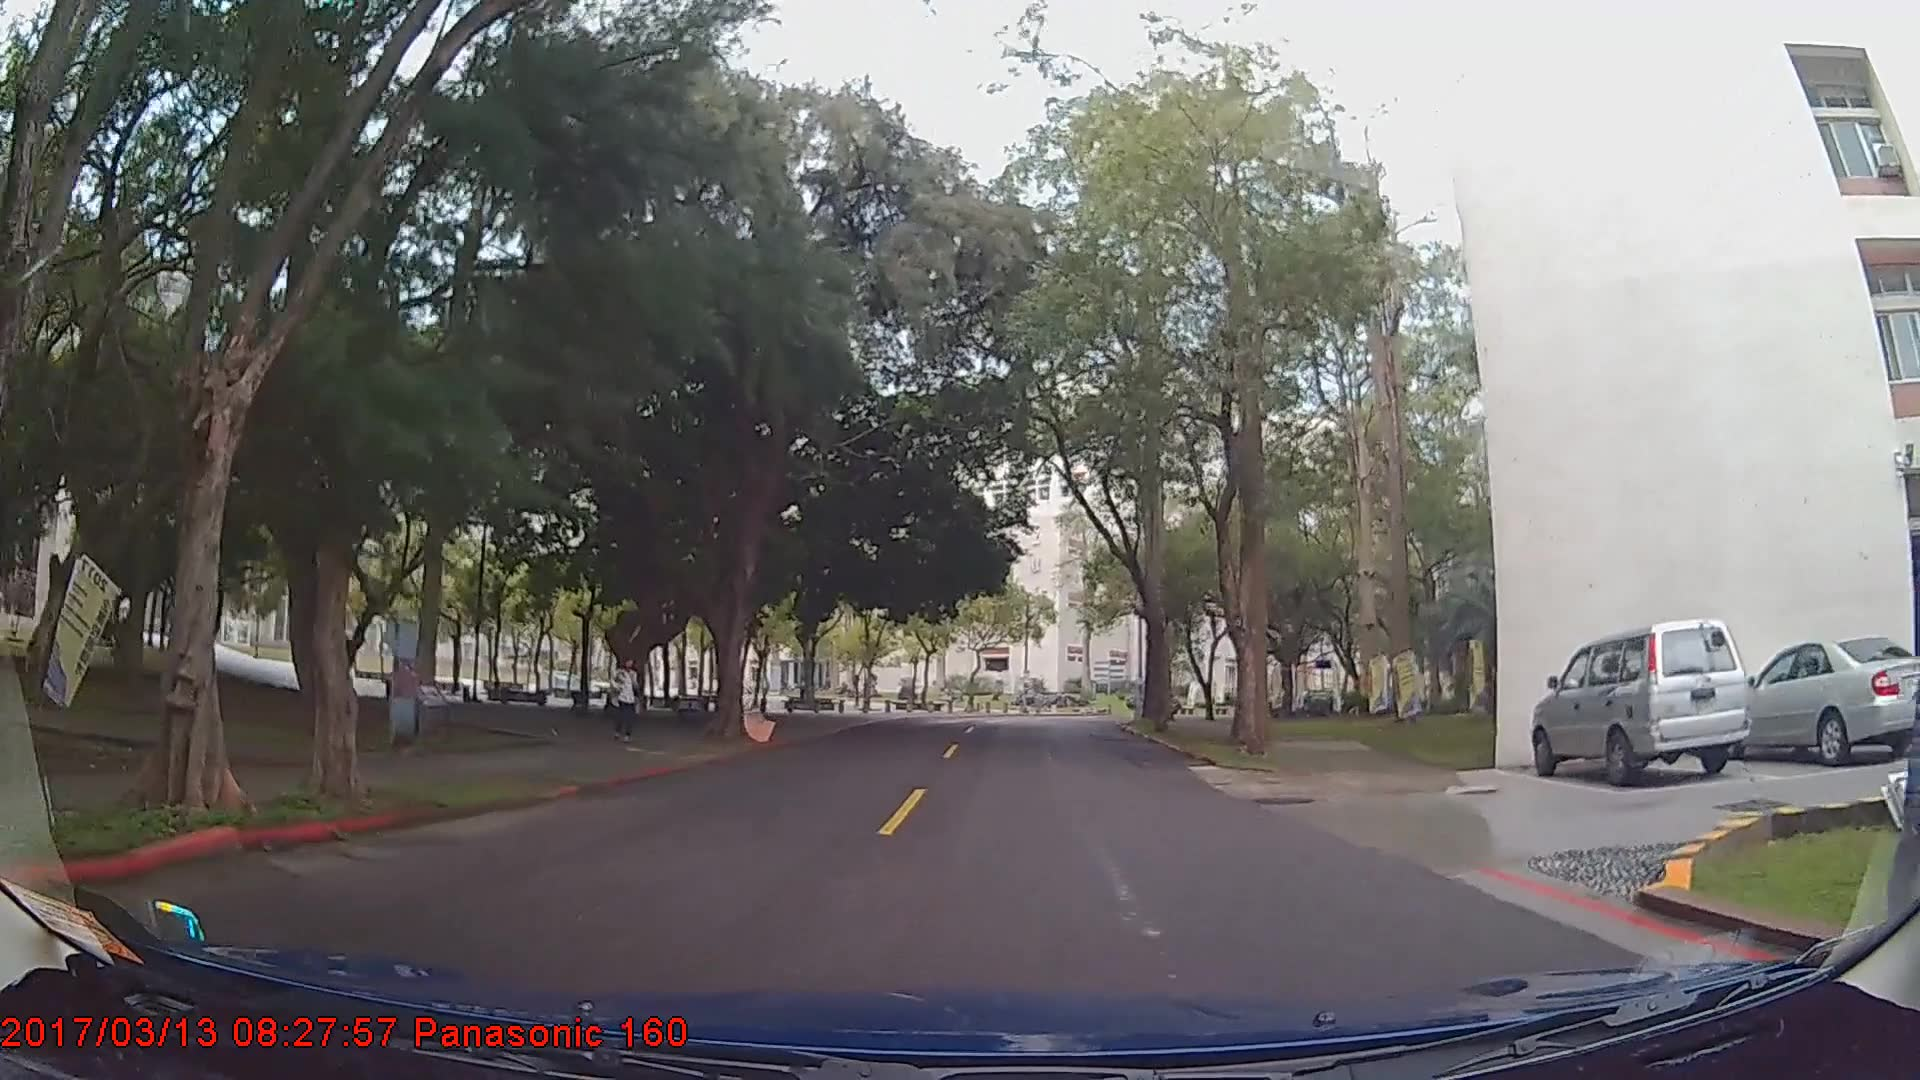pedestrian: (609, 653, 642, 744)
vehicle: (1530, 617, 1750, 788), (1714, 632, 1920, 767)
